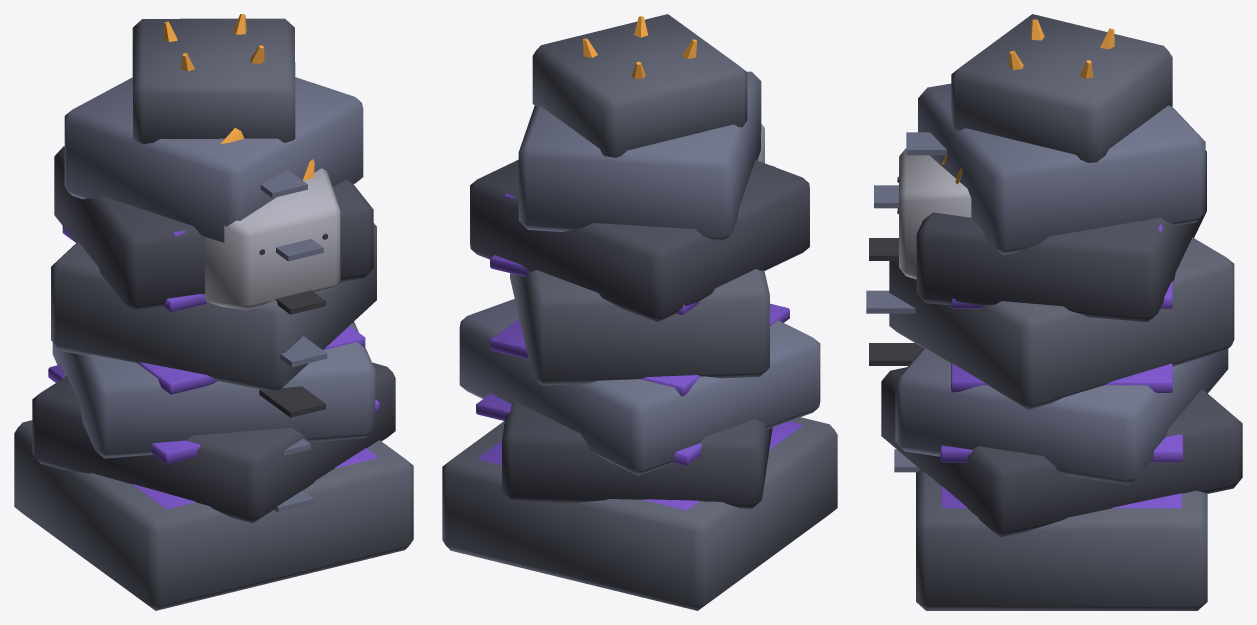
File: shifting_idol.glb
The picture shows the model from 3 angles, left to right: view 1: azimuth 30°, elevation 25°; view 2: azimuth 150°, elevation 25°; view 3: azimuth 270°, elevation 25°; orthographic projection. The views are drawn at different scales.
Visible parts, largest first — view 1: ShiftingIdol; view 2: ShiftingIdol; view 3: ShiftingIdol.
Part boxes in pixels (x1,y1,x2,y2): ShiftingIdol: (14,14,413,610); ShiftingIdol: (442,14,837,610); ShiftingIdol: (866,14,1242,610).
Bounding box in the file's own units: 2.41 × 3.8 × 2.55.
1 material, 1 textured.
